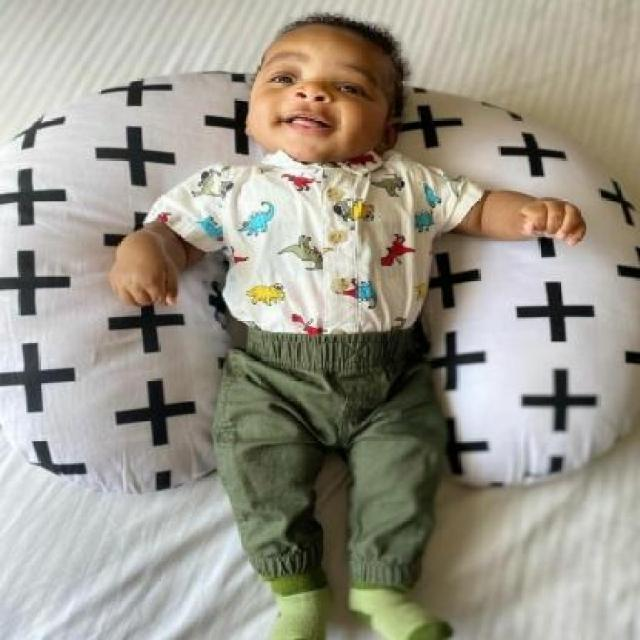baby: (109, 14, 583, 638)
